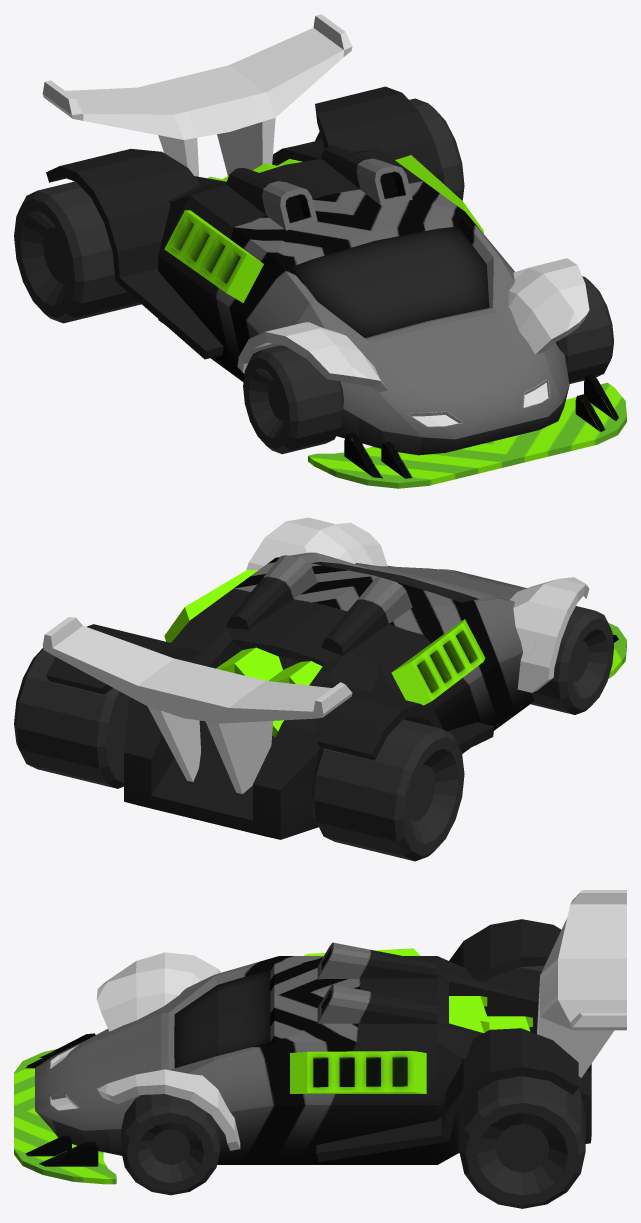
The model's file is Car-5.fbx.
The picture shows the model from 3 angles, top to bottom: view 1: azimuth 30°, elevation 25°; view 2: azimuth 150°, elevation 25°; view 3: azimuth 270°, elevation 25°; orthographic projection. The views are drawn at different scales.
Visible parts, largest first — view 1: Cube.199, Cube.196, Cylinder.230, Plane.031, Cylinder.233, Cylinder.232, Cylinder.228, Cylinder.229, Cylinder.231, Cylinder.226, Cylinder.227; view 2: Cube.199, Cube.196, Cylinder.233, Cylinder.227, Cylinder.230, Cylinder.232, Cylinder.231, Cylinder.229, Cylinder.228, Cube.198, Plane.031; view 3: Cube.199, Cylinder.227, Cube.196, Cylinder.228, Cylinder.226, Plane.031, Cylinder.231, Cylinder.230, Cylinder.229, Cube.198, Cube.197.
Part boxes in pixels (x1=…): Cube.199: x1=158, y1=139, x2=569, y2=455; Cube.196: x1=42, y1=14, x2=352, y2=176; Cylinder.230: x1=46, y1=148, x2=223, y2=359; Plane.031: x1=308, y1=374, x2=626, y2=488; Cylinder.233: x1=14, y1=181, x2=141, y2=323; Cylinder.232: x1=243, y1=345, x2=343, y2=454; Cylinder.228: x1=315, y1=86, x2=444, y2=183; Cylinder.229: x1=508, y1=258, x2=589, y2=354; Cylinder.231: x1=237, y1=322, x2=387, y2=392; Cylinder.226: x1=556, y1=276, x2=613, y2=383; Cylinder.227: x1=315, y1=98, x2=464, y2=200; Cube.199: x1=124, y1=552, x2=534, y2=839; Cube.196: x1=42, y1=617, x2=352, y2=793; Cylinder.233: x1=311, y1=719, x2=464, y2=861; Cylinder.227: x1=14, y1=648, x2=129, y2=788; Cylinder.230: x1=315, y1=680, x2=494, y2=760; Cylinder.232: x1=531, y1=606, x2=613, y2=714; Cylinder.231: x1=510, y1=577, x2=589, y2=692; Cylinder.229: x1=246, y1=517, x2=387, y2=569; Cylinder.228: x1=46, y1=624, x2=199, y2=694; Cube.198: x1=216, y1=647, x2=322, y2=685; Plane.031: x1=608, y1=623, x2=626, y2=678; Cube.199: x1=35, y1=942, x2=591, y2=1164; Cylinder.227: x1=459, y1=1076, x2=585, y2=1208; Cube.196: x1=537, y1=890, x2=626, y2=1077; Cylinder.228: x1=316, y1=1028, x2=578, y2=1161; Cylinder.226: x1=121, y1=1094, x2=220, y2=1195; Plane.031: x1=14, y1=1033, x2=116, y2=1184; Cylinder.231: x1=96, y1=952, x2=220, y2=1031; Cylinder.230: x1=449, y1=919, x2=561, y2=981; Cylinder.229: x1=97, y1=1069, x2=240, y2=1150; Cube.198: x1=449, y1=996, x2=489, y2=1032; Cube.197: x1=484, y1=1016, x2=532, y2=1032.
Bounding box in the file's own units: 300 × 136 × 440.
